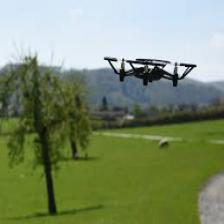drone: (103, 56, 197, 86)
